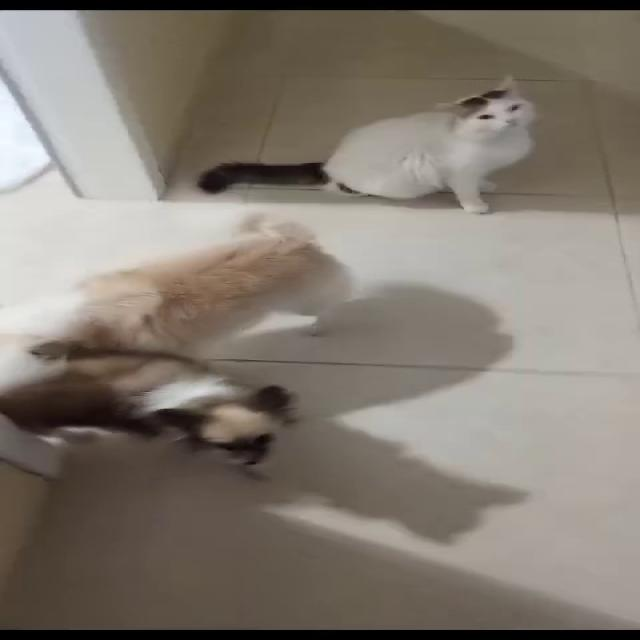Pedrita: (11, 338, 299, 494)
Simba: (266, 67, 602, 221)
Theo: (88, 226, 374, 350)
